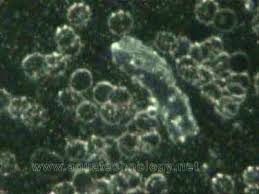Malaria: (195, 1, 238, 34), (53, 24, 83, 55), (22, 103, 49, 128), (65, 2, 92, 26), (107, 10, 133, 34), (22, 54, 47, 78), (65, 139, 89, 163), (70, 68, 93, 91), (210, 173, 235, 194), (146, 172, 169, 194), (77, 100, 97, 122)
